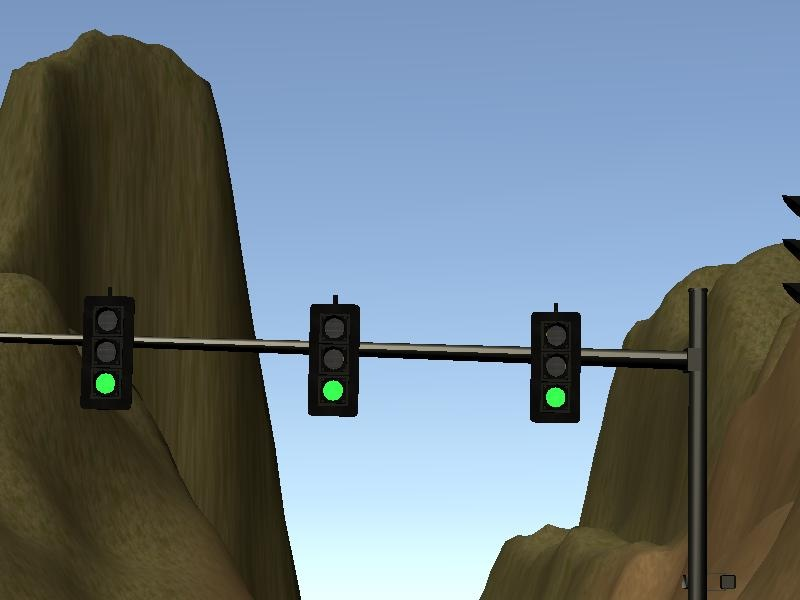GREEN: (82, 294, 135, 411), (306, 303, 358, 418), (531, 311, 581, 424)
